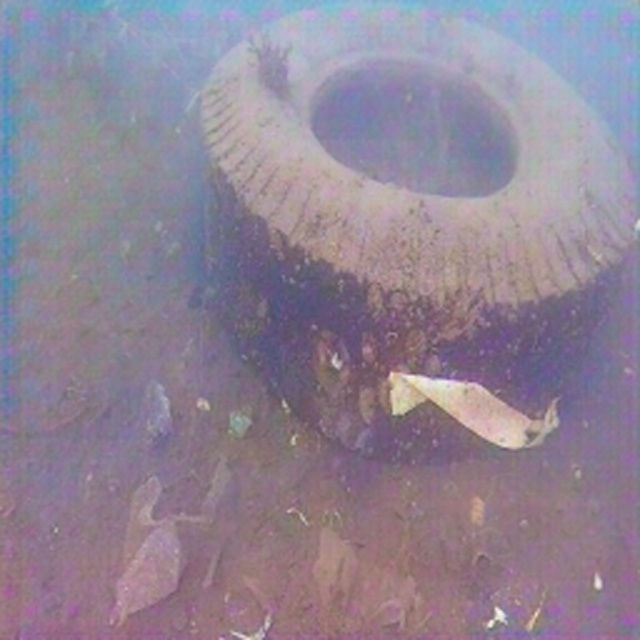mine: (197, 0, 639, 464)
